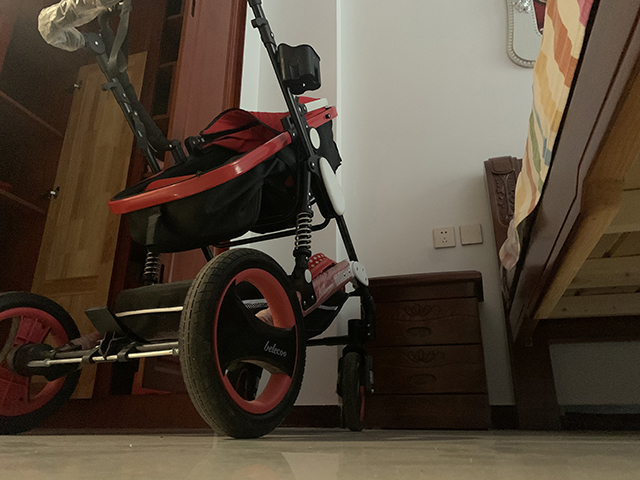bed: (482, 1, 640, 432)
cabinet: (1, 1, 242, 432), (366, 270, 493, 431)
